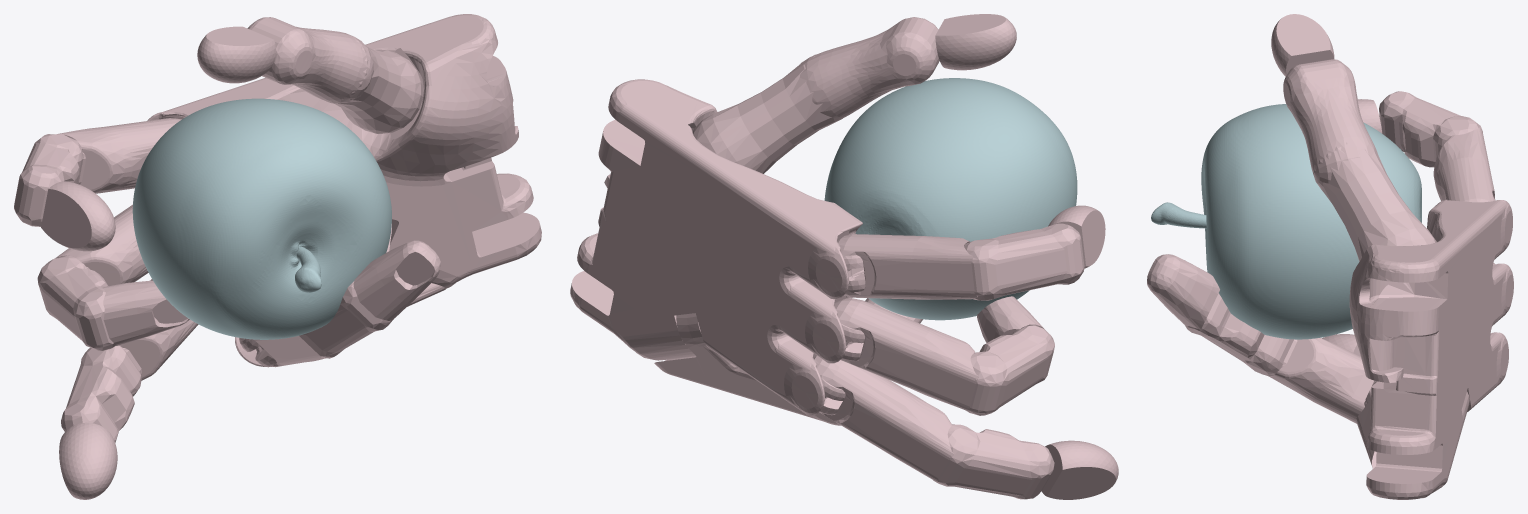
Rendered from grasp_7.glb.
3 views of the same model, side by side, from view 1: azimuth 30°, elevation 25°; view 2: azimuth 150°, elevation 25°; view 3: azimuth 270°, elevation 25° (orthographic). The views are drawn at different scales.
Visible parts, largest first — view 1: world; view 2: world; view 3: world.
Boxes of the visible parts, x1,y1,x2,y2 form: world: [14, 14, 541, 499]; world: [570, 14, 1118, 499]; world: [1147, 14, 1513, 499].
Size of the model in its own units: 0.1837 by 0.1506 by 0.1189.
